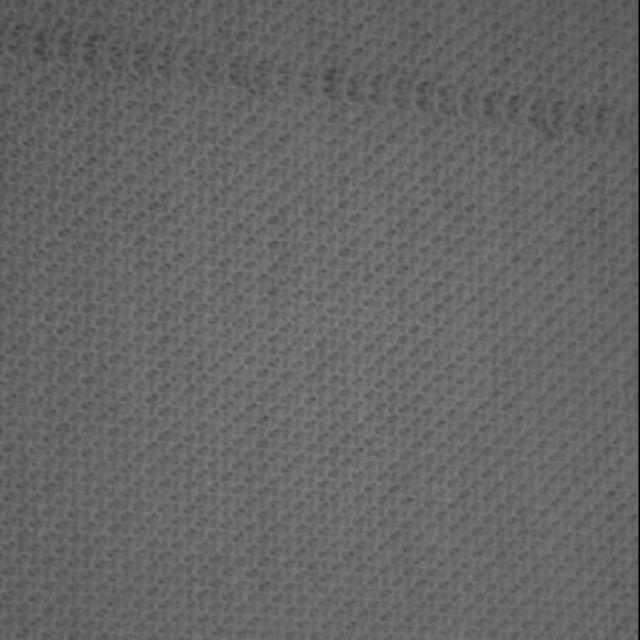Line: (0, 18, 634, 146)
